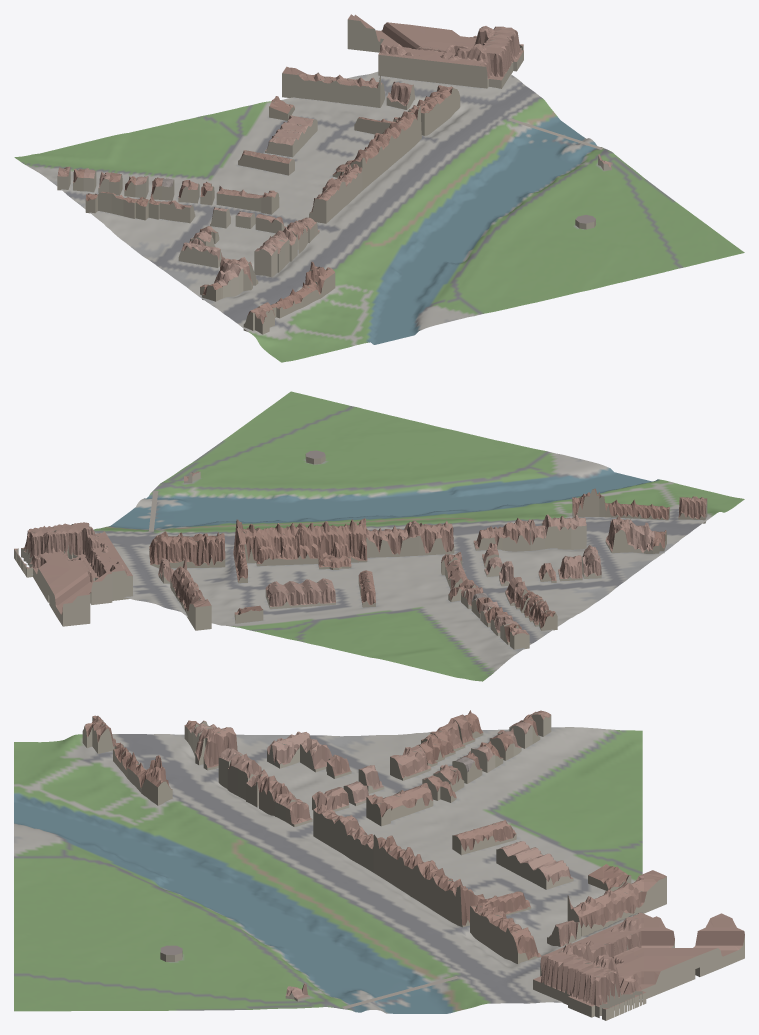
3 renders of one model, top to bottom at view 1: azimuth 30°, elevation 25°; view 2: azimuth 150°, elevation 25°; view 3: azimuth 270°, elevation 25°, orthographic. The views are drawn at different scales.
Visible parts, largest first — view 1: ground, b:way/96443894, b:way/148815859, b:way/136608467, b:way/136607945, b:way/136607952, b:way/224261558, b:way/136604664, b:way/224261561, b:way/175420011, b:way/136107256, b:way/136607941 (+3 smaller); view 2: ground, b:way/96443894, b:way/148815859, b:way/136607945, b:way/136607952, b:way/224261558, b:way/136608467, b:way/136604664, b:way/136607942, b:way/136607944, b:way/136605785, b:way/136604661 (+5 smaller); view 3: ground, b:way/96443894, b:way/148815859, b:way/136608467, b:way/136607952, b:way/136607945, b:way/224261558, b:way/224261561, b:way/136605785, b:way/136107256, b:way/136107272, b:way/175420011 (+12 smaller).
Boxes of the visible parts, x1,y1,x2,y2 form: ground: (14,71,744,362); b:way/96443894: (347,14,523,88); b:way/148815859: (332,105,421,190); b:way/136608467: (282,66,384,107); b:way/136607945: (309,164,362,223); b:way/136607952: (408,85,460,135); b:way/224261558: (265,115,317,157); b:way/136604664: (270,270,320,318); b:way/224261561: (238,150,294,175); b:way/175420011: (178,238,224,267); b:way/136107256: (216,186,263,211); b:way/136607941: (254,242,277,277); ground: (31,391,744,681); b:way/96443894: (14,522,132,626); b:way/148815859: (233,518,367,583); b:way/136607945: (366,520,454,557); b:way/136607952: (149,531,225,568); b:way/224261558: (265,578,335,609); b:way/136608467: (170,556,211,630); b:way/136604664: (599,492,669,520); b:way/136607942: (541,514,571,549); b:way/136607944: (500,518,530,551); b:way/136605785: (605,516,631,553); b:way/136604661: (678,496,707,523); ground: (14,727,642,1013); b:way/96443894: (533,912,744,1020); b:way/148815859: (373,834,531,927); b:way/136608467: (567,870,666,936); b:way/136607952: (470,901,541,963); b:way/136607945: (313,804,373,872); b:way/224261558: (496,841,573,889); b:way/224261561: (452,820,516,855); b:way/136605785: (195,727,237,770); b:way/136107256: (383,783,433,820); b:way/136107272: (390,745,431,780); b:way/175420011: (267,731,310,768).
Bounding box in the file's own units: 268 × 23.08 × 291.
